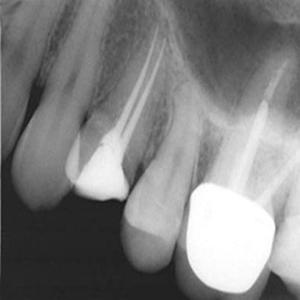tooth: (182, 47, 300, 300), (12, 2, 119, 215), (64, 21, 170, 202), (119, 82, 204, 275)
